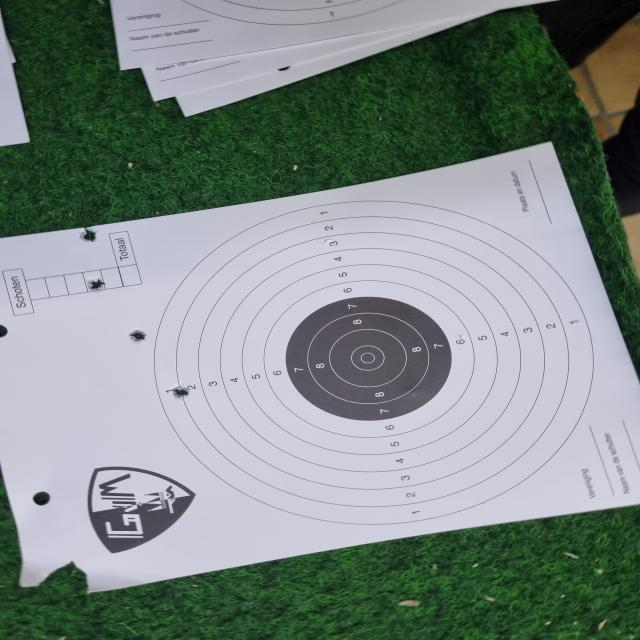3: (166, 382, 194, 398)
Black Contour: (284, 296, 453, 422)
Target: (153, 200, 594, 525)
hole: (127, 330, 147, 344), (86, 278, 106, 292), (80, 230, 98, 243)
